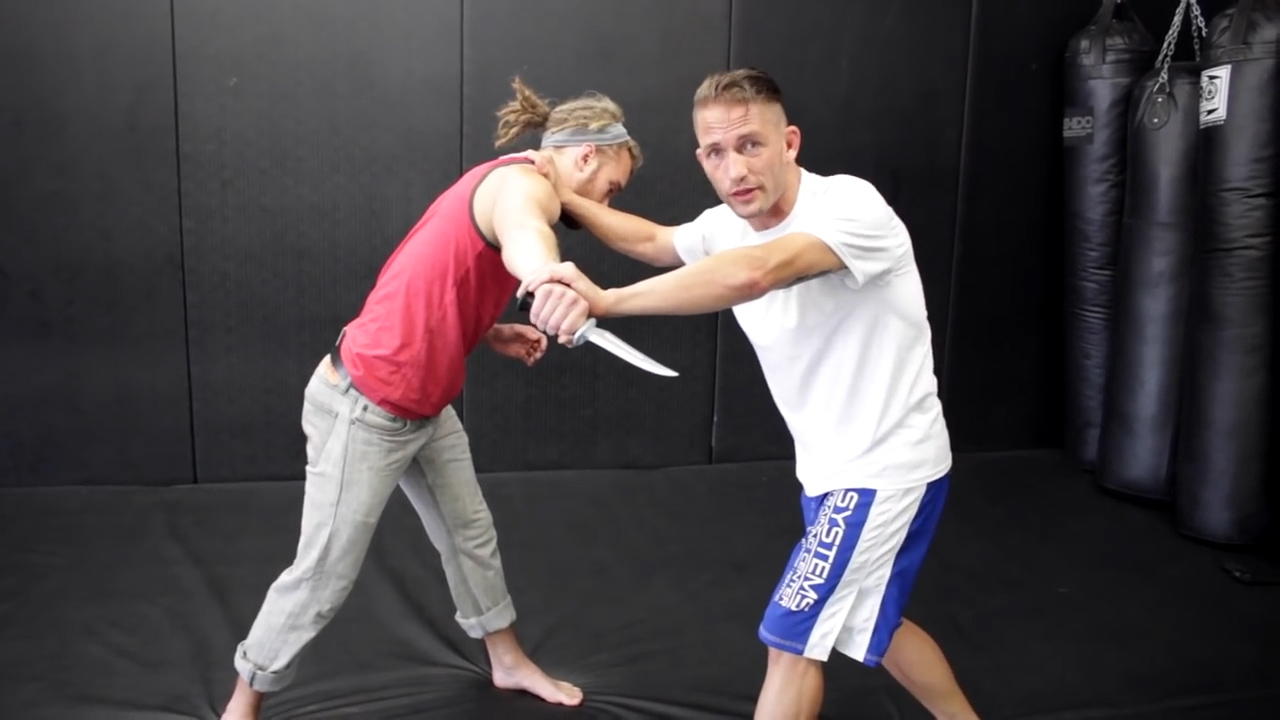knife: (512, 290, 688, 390)
